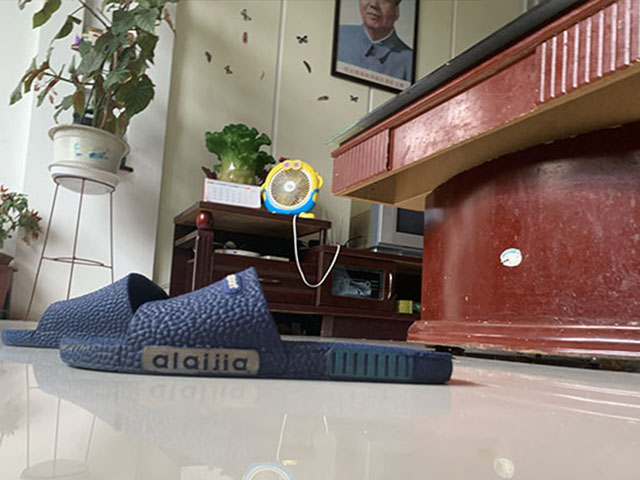cabinet: (174, 202, 329, 332)
slippers: (55, 265, 455, 387), (1, 264, 162, 347)
